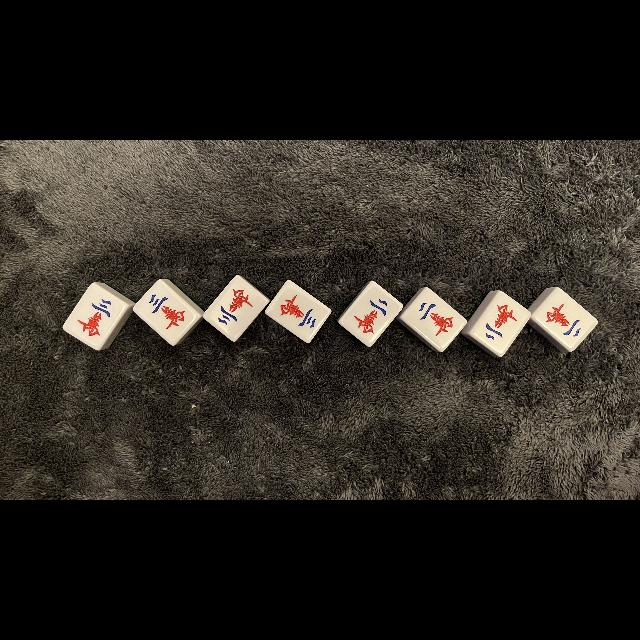c2: (539, 296, 589, 344), (410, 296, 458, 342), (476, 298, 524, 344), (349, 292, 393, 338)
c3: (140, 286, 192, 336), (272, 288, 324, 336), (72, 292, 120, 342), (210, 284, 258, 330)
